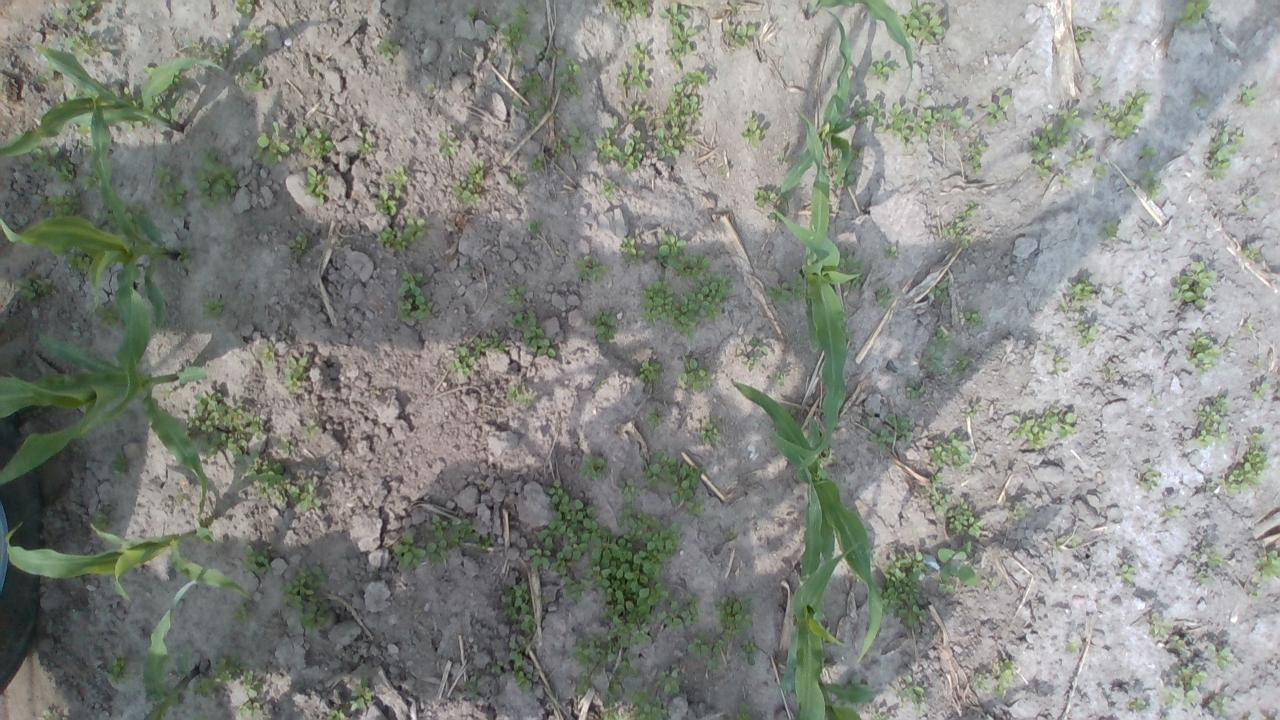Maize: (0, 93, 183, 426), (728, 373, 887, 664), (0, 329, 212, 523), (762, 106, 858, 470), (0, 42, 226, 164), (774, 456, 860, 720), (3, 514, 248, 600), (778, 7, 876, 198), (802, 0, 926, 92), (136, 581, 203, 720), (770, 669, 886, 720)
Weeds: (580, 506, 683, 650), (523, 479, 597, 575), (638, 274, 735, 341), (184, 391, 262, 459), (654, 70, 708, 160), (641, 448, 708, 518), (871, 549, 930, 628), (1028, 108, 1082, 178), (280, 564, 332, 635), (1218, 432, 1270, 498), (190, 145, 240, 211), (1092, 87, 1150, 140), (598, 651, 638, 720), (661, 1, 697, 73), (656, 233, 710, 281), (508, 70, 552, 127), (240, 452, 288, 504), (936, 538, 979, 594), (426, 514, 474, 564), (1168, 262, 1216, 310), (594, 128, 646, 172), (1206, 124, 1244, 182), (509, 310, 556, 356), (898, 0, 946, 45), (150, 162, 189, 217), (498, 582, 539, 634), (1008, 408, 1058, 450), (248, 120, 292, 167), (968, 658, 1016, 701), (568, 634, 616, 677), (686, 627, 731, 672), (713, 592, 753, 642), (396, 269, 434, 321), (376, 215, 426, 254), (28, 146, 77, 185), (1161, 667, 1206, 709), (1186, 328, 1224, 376), (927, 430, 970, 472), (617, 42, 652, 92), (1190, 404, 1228, 448), (450, 158, 486, 204), (655, 593, 701, 628), (946, 497, 986, 537), (500, 4, 530, 55), (676, 355, 716, 392), (48, 244, 94, 276), (390, 528, 424, 571), (506, 640, 534, 692), (752, 188, 792, 222), (293, 124, 333, 158), (184, 38, 232, 66), (90, 199, 126, 236), (150, 90, 188, 124), (836, 250, 866, 293), (920, 472, 952, 512), (975, 94, 1012, 128), (238, 542, 274, 576), (736, 335, 768, 373), (40, 189, 85, 216), (766, 274, 806, 304), (852, 99, 888, 132), (632, 687, 668, 720), (888, 102, 916, 144), (899, 674, 927, 716), (301, 164, 329, 206), (231, 58, 265, 92), (211, 651, 244, 686), (721, 20, 759, 50), (603, 0, 652, 23), (1066, 148, 1106, 176), (64, 33, 102, 62), (572, 255, 608, 284), (472, 330, 509, 358), (13, 276, 56, 300), (941, 216, 972, 249), (943, 106, 973, 140), (1250, 549, 1280, 583), (914, 106, 942, 142), (1188, 542, 1224, 570), (588, 309, 618, 342), (290, 480, 320, 512), (105, 650, 133, 684), (1178, 0, 1212, 27), (740, 113, 766, 148), (885, 413, 914, 443), (868, 58, 901, 84), (446, 346, 474, 376), (95, 303, 125, 331), (124, 200, 151, 231), (350, 674, 372, 712), (384, 165, 410, 197), (284, 356, 306, 393), (1064, 277, 1097, 301), (110, 84, 143, 108), (654, 666, 682, 694), (620, 236, 646, 266), (578, 454, 608, 480), (564, 122, 586, 157), (1140, 168, 1164, 200), (240, 666, 264, 698), (1206, 644, 1233, 672), (1136, 463, 1162, 492), (67, 0, 98, 24), (919, 346, 945, 374), (240, 25, 268, 51), (698, 416, 724, 444), (966, 138, 986, 174), (354, 126, 376, 158), (616, 477, 640, 506), (531, 40, 564, 61), (436, 132, 462, 158), (199, 295, 225, 321), (375, 36, 402, 61), (1076, 321, 1100, 349), (108, 448, 130, 478), (870, 425, 894, 452), (232, 699, 266, 718), (506, 385, 536, 406), (1147, 612, 1171, 638), (554, 56, 582, 78), (1238, 83, 1262, 108), (257, 341, 278, 369), (1094, 6, 1120, 28), (736, 640, 758, 666), (375, 190, 397, 216), (822, 148, 842, 176), (1058, 412, 1078, 440), (190, 674, 213, 698), (558, 78, 584, 99), (229, 602, 252, 625), (1098, 218, 1122, 240), (502, 284, 526, 306), (284, 232, 306, 256), (874, 284, 894, 310), (75, 122, 93, 150), (1208, 694, 1232, 715), (574, 671, 594, 696), (644, 405, 664, 430), (80, 168, 100, 192), (949, 356, 970, 378), (638, 362, 661, 382), (1238, 195, 1262, 214), (928, 280, 948, 302), (596, 179, 616, 201), (625, 103, 648, 122), (176, 244, 194, 268), (904, 380, 925, 400), (300, 418, 321, 438), (474, 532, 494, 553), (1049, 354, 1069, 375), (962, 307, 984, 326), (36, 62, 58, 81), (1114, 565, 1136, 584), (1250, 381, 1270, 401), (1072, 28, 1092, 48), (233, 0, 254, 19), (91, 511, 112, 530), (930, 330, 954, 346), (484, 15, 502, 36), (1055, 532, 1082, 546), (1158, 503, 1182, 518), (506, 170, 528, 186), (734, 701, 752, 720), (276, 436, 295, 454), (1007, 502, 1026, 520), (1212, 396, 1230, 415), (1189, 94, 1210, 110), (526, 216, 547, 232), (118, 118, 146, 130), (465, 672, 479, 696), (1166, 635, 1185, 652), (66, 84, 86, 100), (1064, 638, 1084, 654), (960, 404, 981, 419), (962, 199, 978, 218), (1138, 144, 1156, 160), (842, 167, 856, 187), (882, 243, 898, 260), (52, 10, 67, 28), (1058, 301, 1082, 312), (1238, 247, 1258, 260), (868, 707, 888, 720), (328, 707, 348, 720), (530, 154, 546, 170), (552, 138, 566, 156), (605, 116, 619, 134), (1056, 176, 1074, 188), (1128, 698, 1146, 710), (846, 673, 862, 686), (773, 370, 786, 386), (1195, 571, 1211, 584), (490, 660, 504, 674), (777, 150, 790, 164), (1090, 76, 1100, 92), (1102, 365, 1114, 378), (38, 709, 52, 720), (915, 91, 930, 101), (512, 55, 524, 67), (466, 4, 476, 18), (1244, 318, 1254, 331), (725, 529, 737, 539), (987, 576, 996, 588), (1149, 394, 1159, 404), (1248, 590, 1259, 599), (426, 82, 436, 91), (1226, 338, 1233, 347), (852, 149, 858, 157), (464, 264, 471, 270)
